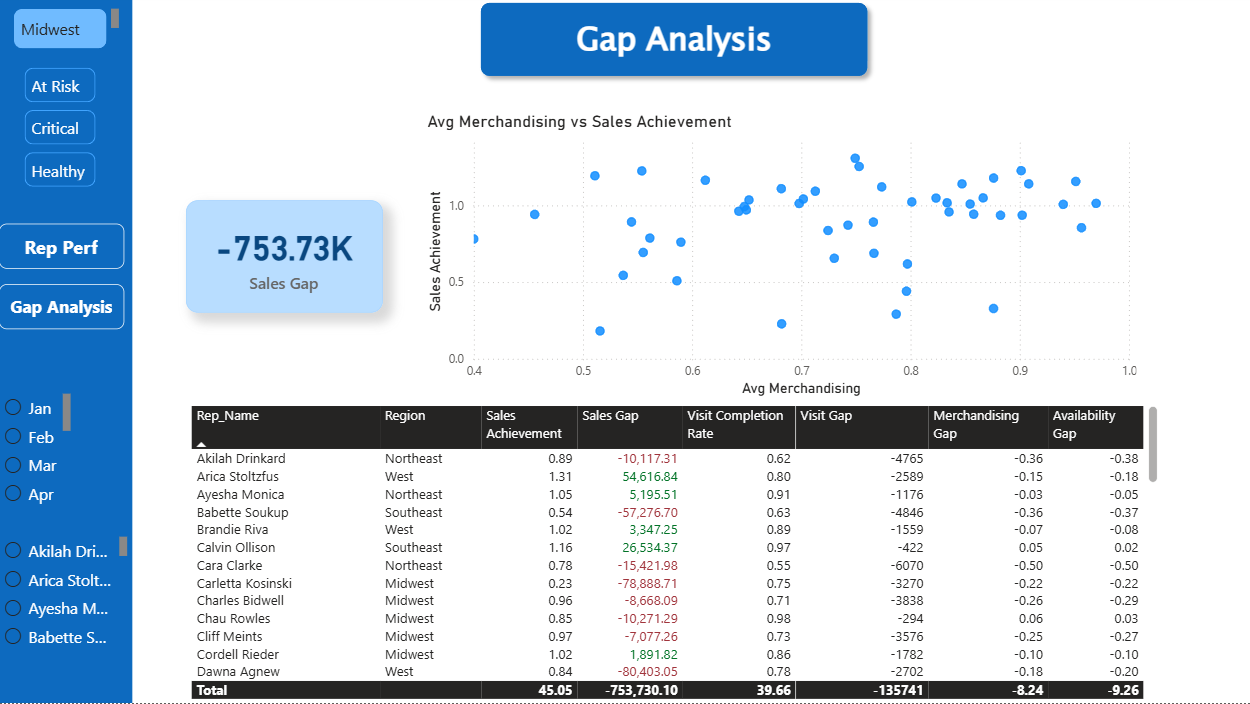

Layout of this report page (visuals, bound fields, positions):
{"tool":"powerbi","page":{"name":"Page 3","canvas":[1280,720],"ordinal":2},"visuals":[{"type":"shape","box":[480.4,0,410.6,92.2],"z":0},{"type":"scatterChart","title":"Avg Merchandising vs Sales Achievement","fields":{"X":["tblCleanOrders.Avg Merchandising"],"Y":["tblCleanOrders.Sales Achievement"],"Category":["tblGapAnalysis.Sales_Achievement","tblGapAnalysis.Avg_Merchandising"]},"box":[430.2,118.7,730.4,294.7],"z":1000},{"type":"tableEx","fields":{"Values":["tblGapAnalysis.Rep_Name","tblGapAnalysis.Region","Sum(tblGapAnalysis.Sales_Achievement)","Sum(tblGapAnalysis.Sales_Gap)","Sum(tblGapAnalysis.Visit_Completion_Rate)","Sum(tblGapAnalysis.Visit_Gap)","Sum(tblGapAnalysis.Merchandising_Gap)","Sum(tblGapAnalysis.Availability_Gap)"]},"box":[189.9,413.4,991.6,307.3],"z":2000},{"type":"card","fields":{"Values":["tblCleanOrders.Sales Gap"]},"box":[189.9,209.5,199.7,114.5],"z":3000},{"type":"shape","box":[0,0,135.5,720.7],"z":4000},{"type":"actionButton","box":[0,233.2,127.1,46.1],"z":5000},{"type":"actionButton","box":[0,294.7,127.1,46.1],"z":6000},{"type":"listSlicer","fields":{"Values":["tblCleanOrders.Region_Name"]},"box":[9.8,9.8,117.3,50.3],"z":7001},{"type":"listSlicer","fields":{"Values":["tblCleanOrders.Month_Name"]},"box":[0,400.8,78.2,127.1],"z":7002},{"type":"advancedSlicerVisual","fields":{"Values":["tblGapAnalysis.Status"]},"box":[20.9,69.8,82.4,131.3],"z":7003},{"type":"listSlicer","fields":{"Values":["tblGapAnalysis.Rep_Name"]},"box":[0,546.1,135.5,125.7],"z":7004}]}

Visuals, with their boxes in screenshot pixels (x1, y1, x2, y2), scaled from the page's 1280x720 canvas onto the 1250x704 screenshot:
shape: x1=469 y1=0 x2=870 y2=90
"Avg Merchandising vs Sales Achievement" scatterChart: x1=420 y1=116 x2=1133 y2=404
tableEx - tblGapAnalysis.Rep_Name x tblGapAnalysis.Region: x1=185 y1=404 x2=1154 y2=703
card - tblCleanOrders.Sales Gap: x1=185 y1=205 x2=380 y2=317
shape: x1=0 y1=0 x2=132 y2=703
actionButton: x1=0 y1=228 x2=124 y2=273
actionButton: x1=0 y1=288 x2=124 y2=333
listSlicer - tblCleanOrders.Region_Name: x1=10 y1=10 x2=124 y2=59
listSlicer - tblCleanOrders.Month_Name: x1=0 y1=392 x2=76 y2=516
advancedSlicerVisual - tblGapAnalysis.Status: x1=20 y1=68 x2=101 y2=197
listSlicer - tblGapAnalysis.Rep_Name: x1=0 y1=534 x2=132 y2=657
